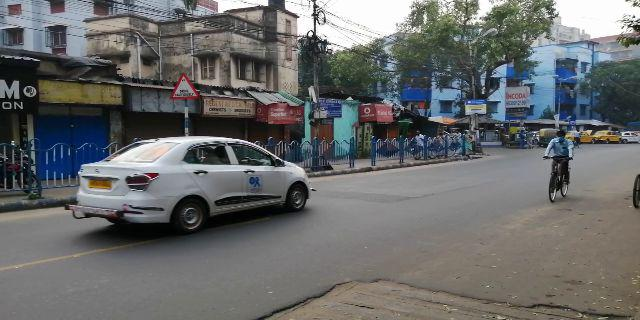Car: (73, 141, 315, 232)
Cycle: (542, 133, 575, 202)
